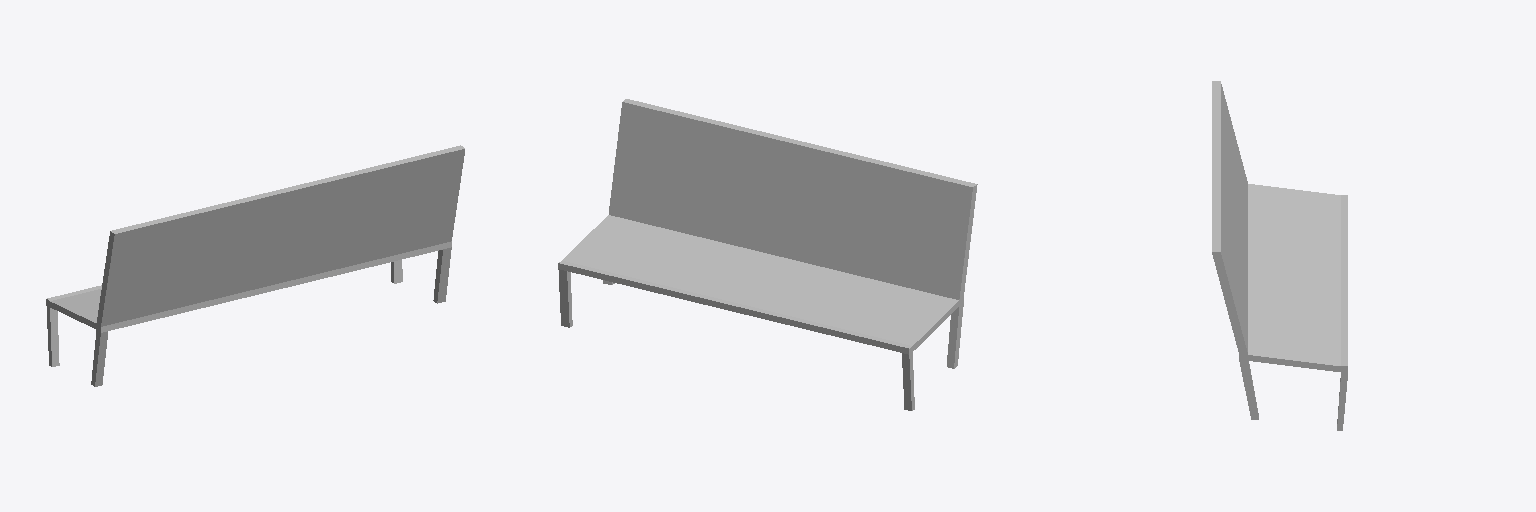
File: banco.obj
The picture shows the model from 3 angles: view 1: azimuth 30°, elevation 25°; view 2: azimuth 150°, elevation 25°; view 3: azimuth 270°, elevation 25°; orthographic projection.
Visible parts, largest first — view 1: Cube_Cube.001; view 2: Cube_Cube.001; view 3: Cube_Cube.001.
Part boxes in pixels (x1,y1,x2,y2): Cube_Cube.001: (46, 145, 464, 386); Cube_Cube.001: (558, 99, 977, 410); Cube_Cube.001: (1212, 81, 1347, 430).
Size of the model in its own units: 6.69 by 3.27 by 2.26.